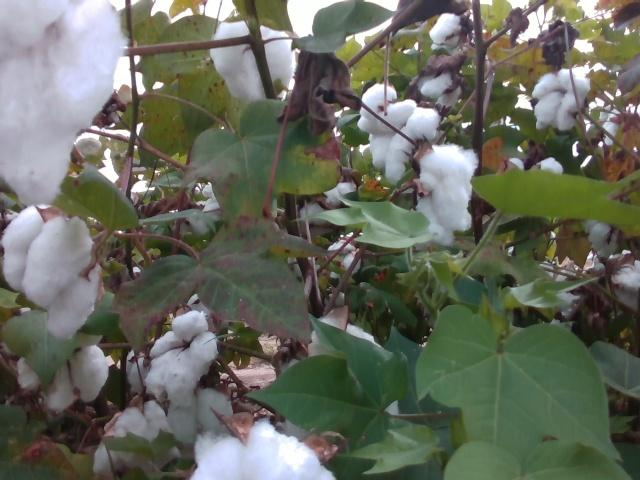cotton_ready: (0, 0, 122, 208), (0, 202, 101, 338), (309, 318, 403, 417), (192, 420, 336, 480), (92, 401, 179, 480), (146, 310, 218, 404), (212, 20, 291, 104), (418, 142, 479, 242), (19, 345, 109, 409), (369, 108, 440, 184), (167, 391, 235, 446), (531, 70, 589, 131), (535, 259, 586, 317), (359, 82, 414, 132), (301, 182, 358, 223), (584, 216, 627, 257), (416, 72, 462, 107), (586, 105, 623, 146), (190, 296, 227, 336), (611, 258, 640, 309), (125, 350, 152, 398), (328, 242, 361, 280), (74, 139, 106, 174), (430, 11, 461, 46), (507, 158, 564, 174), (617, 58, 640, 92), (201, 180, 224, 214)
